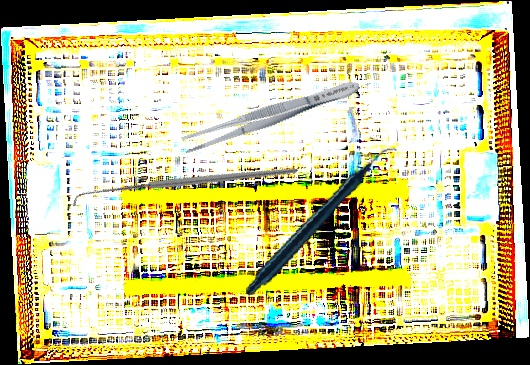Dressing Forceps: (180, 74, 363, 157)
Handpiece: (225, 146, 418, 297)
Hook Surgical: (72, 90, 299, 284)
